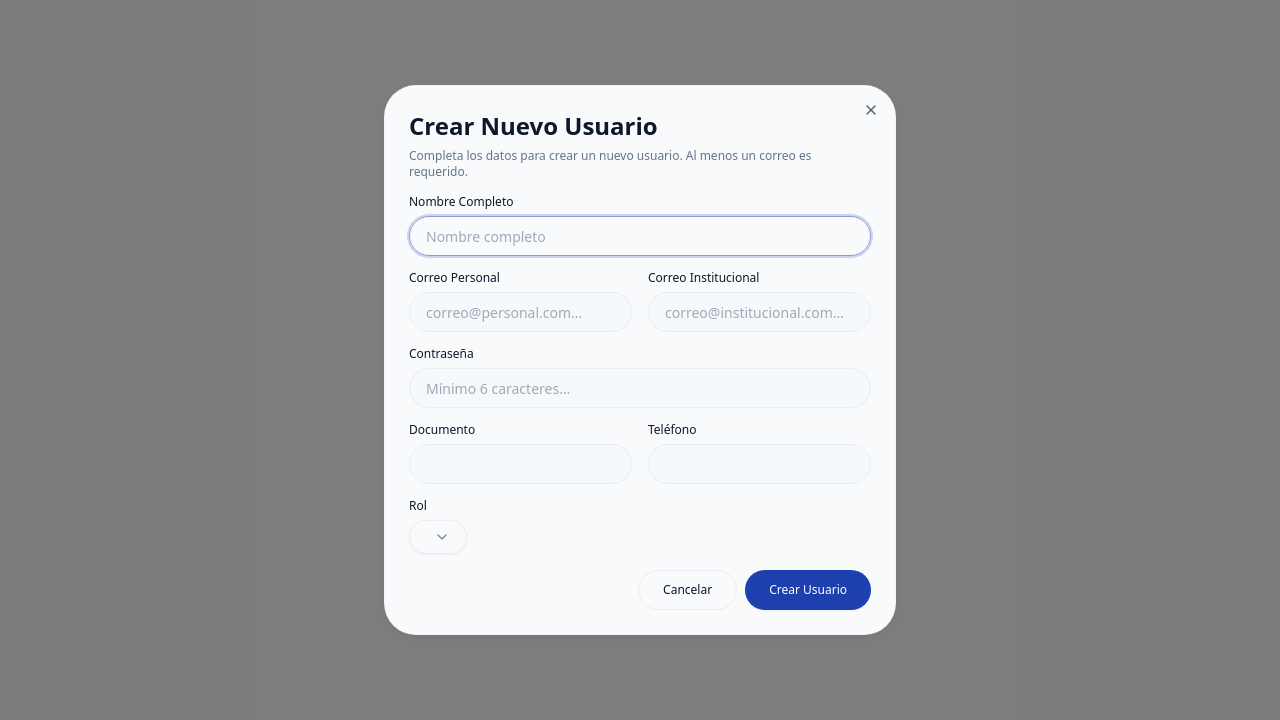
CreateUserModal › debería validar que la contraseña tiene al menos 6 caracteres
The image size is (1280, 720).
Type "Test User" into the field labelled "Nombre Completo" at (640, 236), box [409, 216, 871, 256]
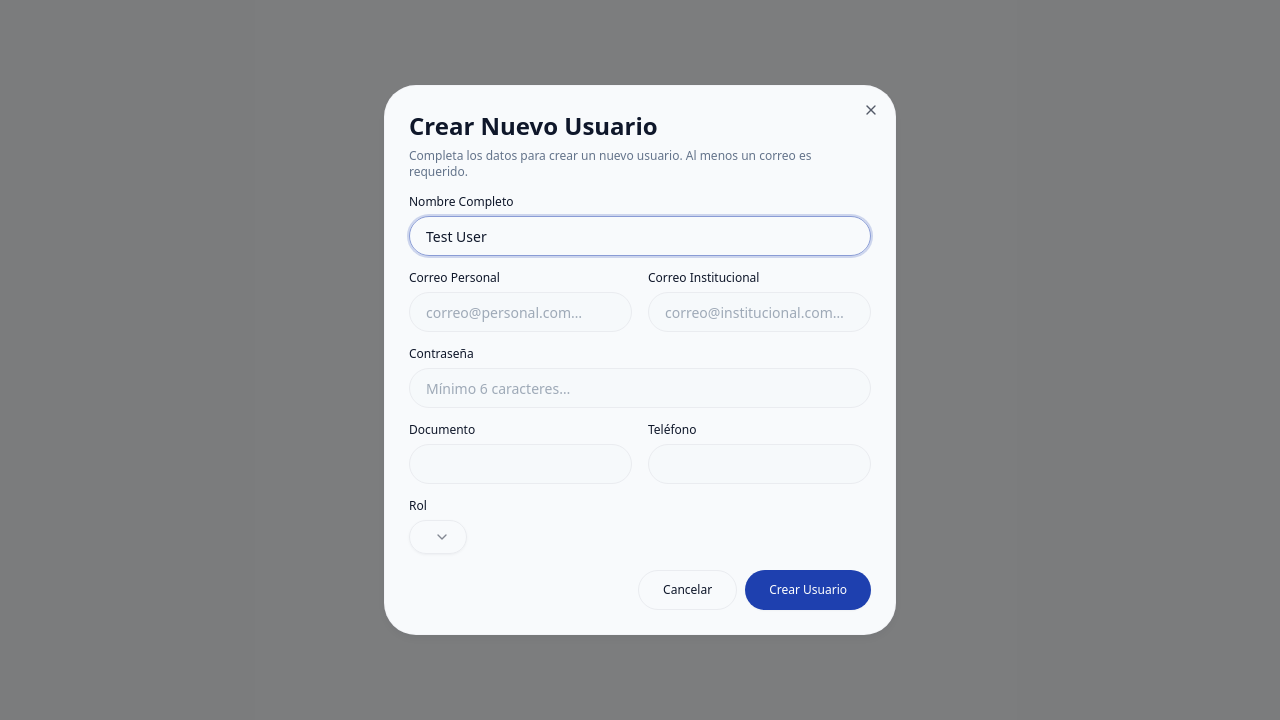
Type "test@example.com" into the field labelled "Correo Institucional" at (760, 312), box [648, 292, 871, 332]
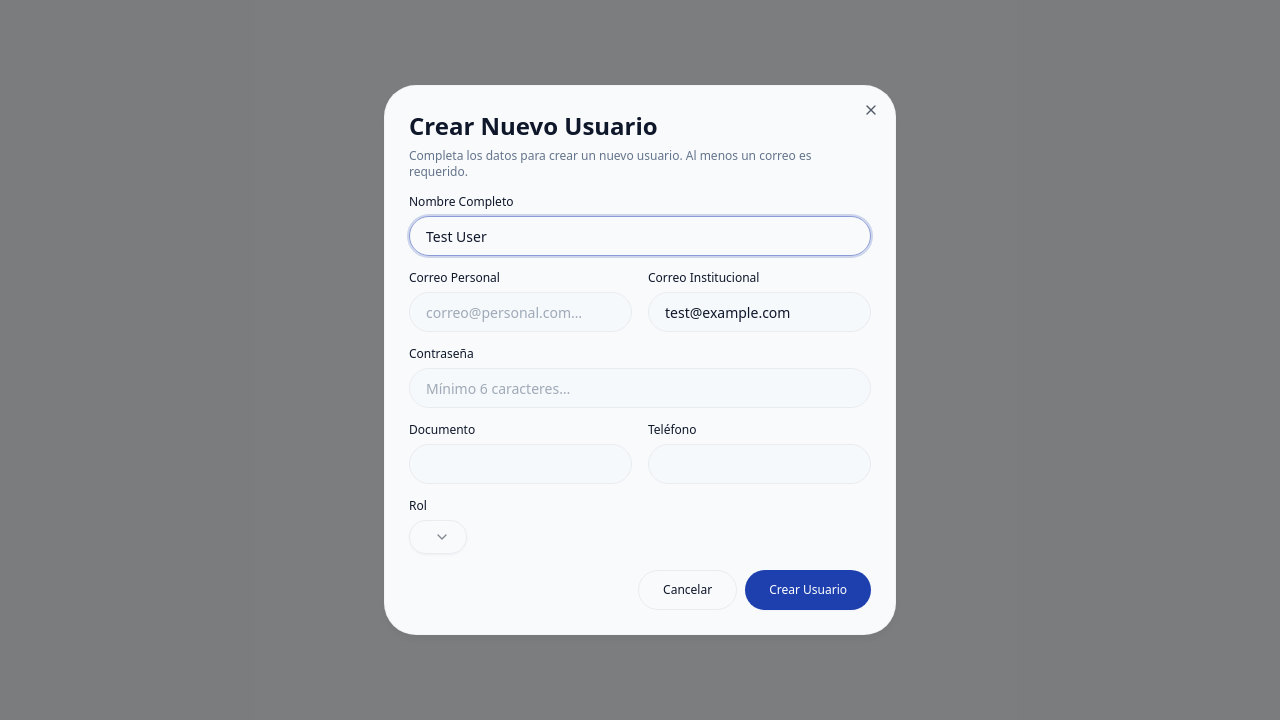
Type "12345" into the password field labelled "Contraseña" at (640, 388), box [409, 368, 871, 408]
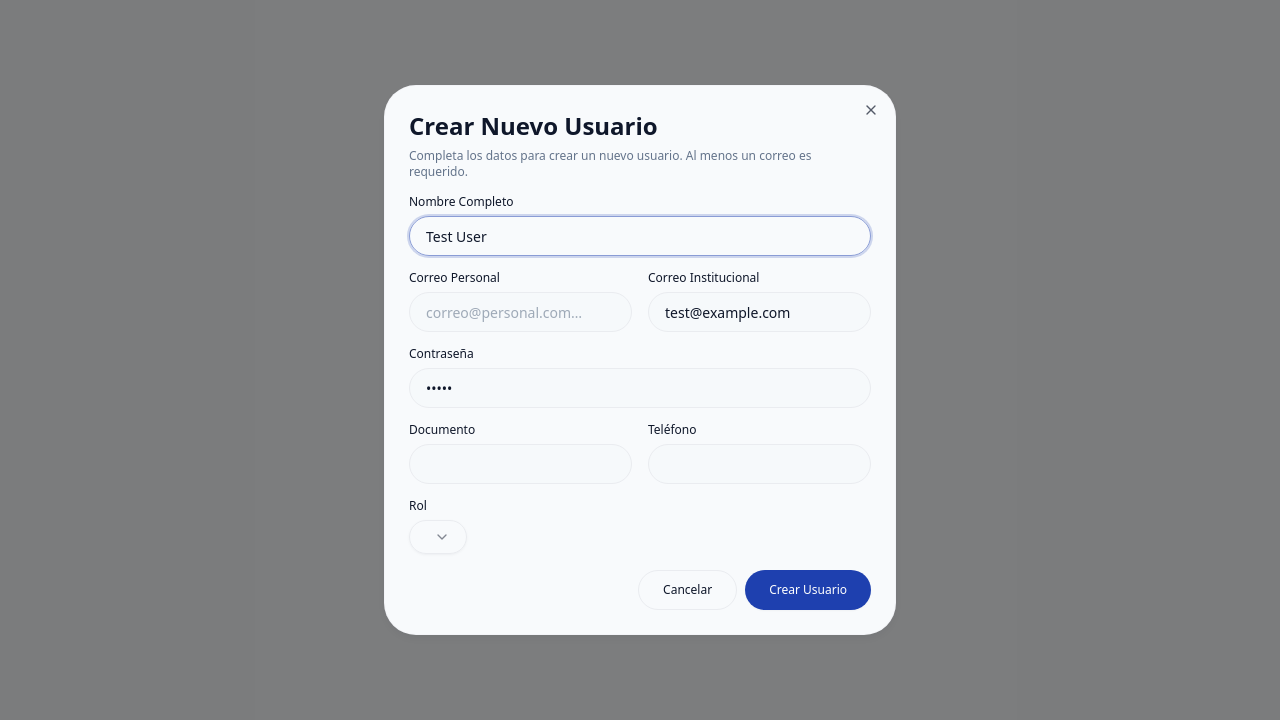
Click the button "Crear Usuario" at (808, 590), box [745, 570, 871, 610]
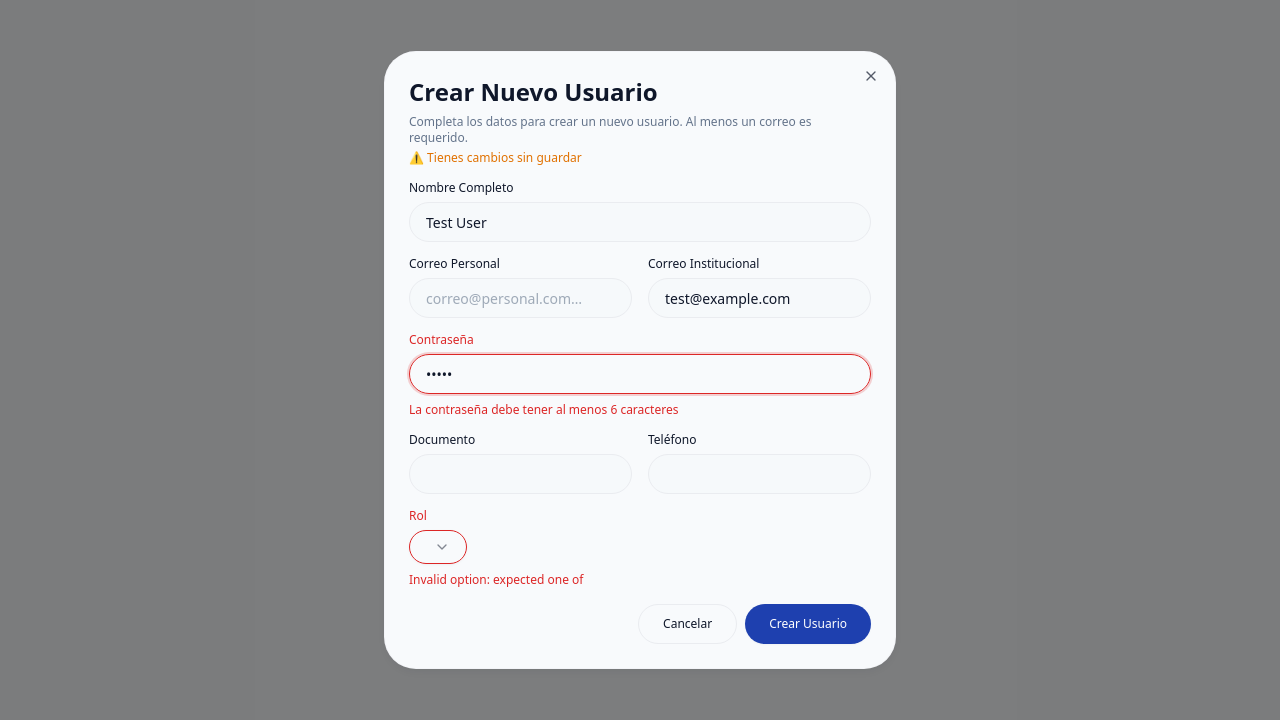
Expected: the text "La contraseña debe tener al menos 6 caracteres" is shown, [409, 401, 678, 418]
